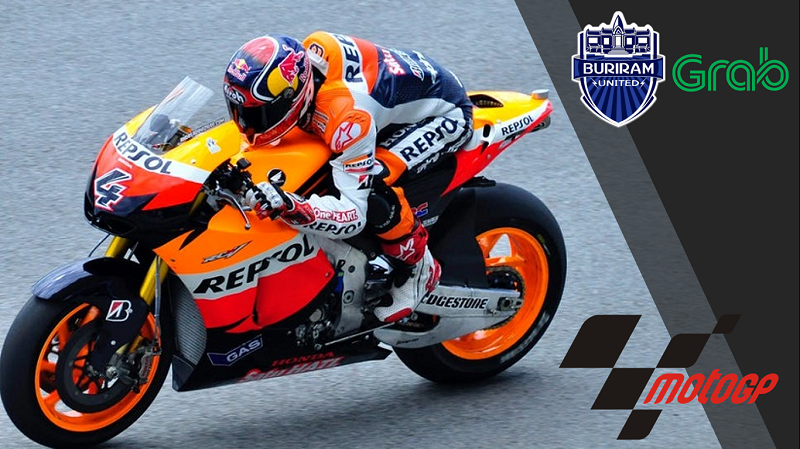helmet: (214, 23, 318, 145)
